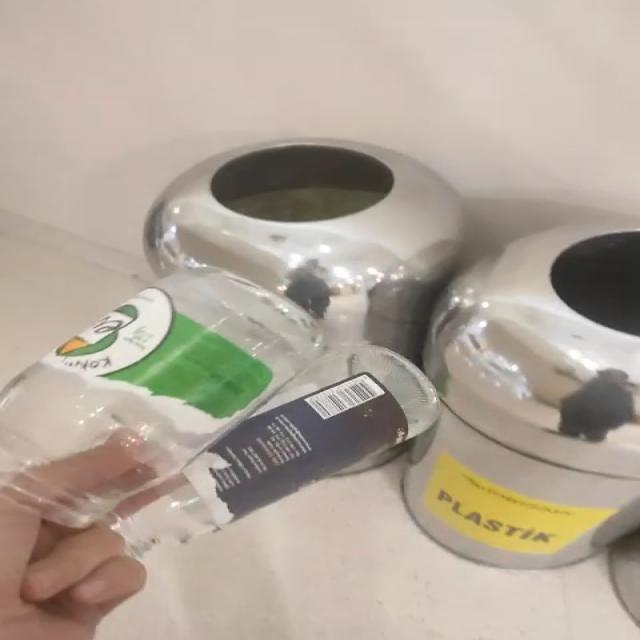glass: (1, 269, 439, 555)
